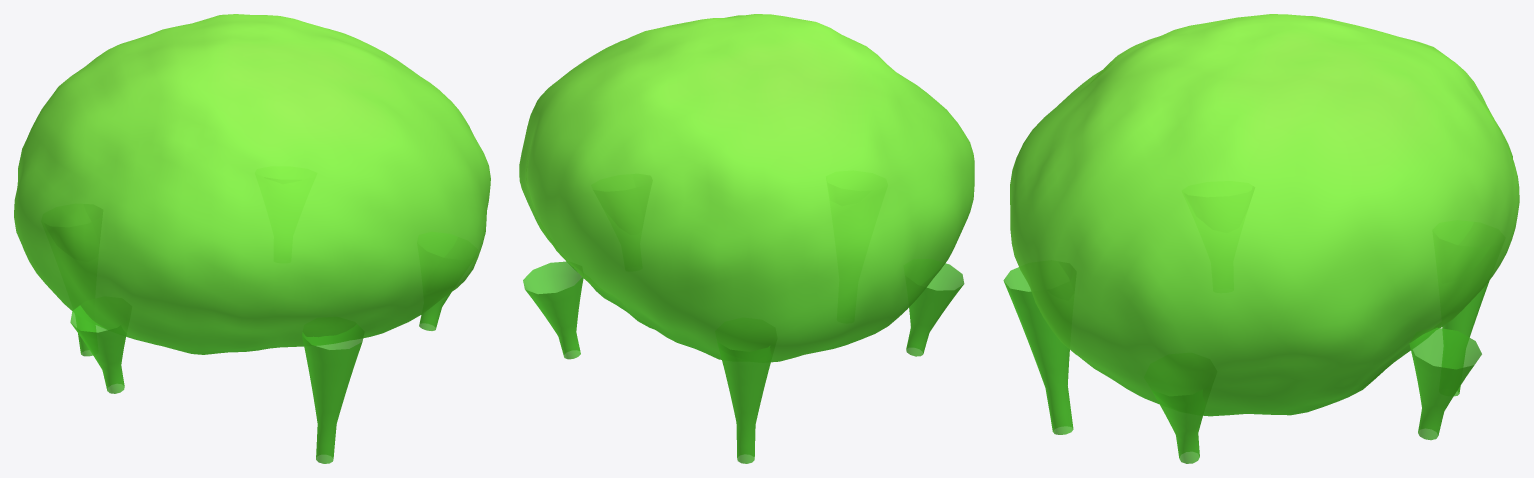
File: slime.glb
3 views of the same model, side by side, from view 1: azimuth 30°, elevation 25°; view 2: azimuth 150°, elevation 25°; view 3: azimuth 270°, elevation 25° (orthographic). The views are drawn at different scales.
Parts seen in each view (by area): view 1: slime; view 2: slime; view 3: slime.
Boxes of the visible parts, x1=… form: slime: x1=14, y1=14, x2=490, y2=463; slime: x1=519, y1=14, x2=974, y2=463; slime: x1=1003, y1=14, x2=1519, y2=463.
Bounding box in the file's own units: 0.085 × 0.0699 × 0.082.
